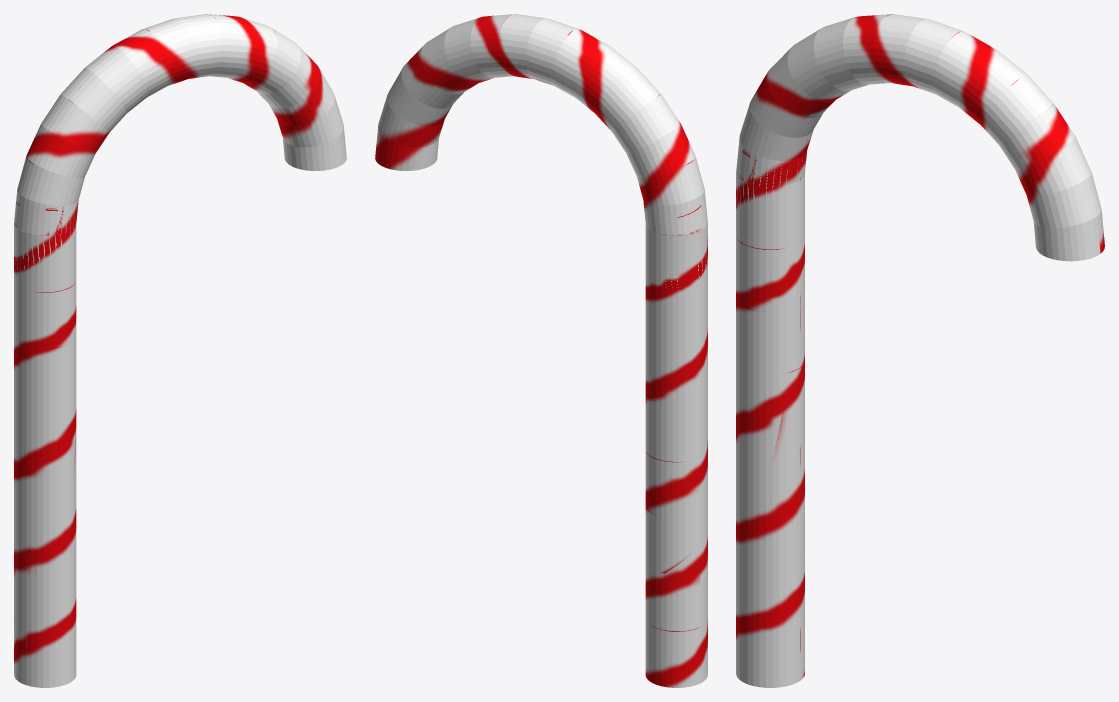
Rendered from cristmass_candy.fbx.
3 renders of one model, left to right at view 1: azimuth 30°, elevation 25°; view 2: azimuth 150°, elevation 25°; view 3: azimuth 330°, elevation 25°, orthographic. The views are drawn at different scales.
Parts seen in each view (by area): view 1: Cylinder; view 2: Cylinder; view 3: Cylinder.
Boxes of the visible parts, x1,y1,x2,y2 form: Cylinder: [14, 14, 346, 687]; Cylinder: [375, 14, 707, 687]; Cylinder: [736, 14, 1104, 687].
Size of the model in its own units: 1202 by 2198 by 200.
